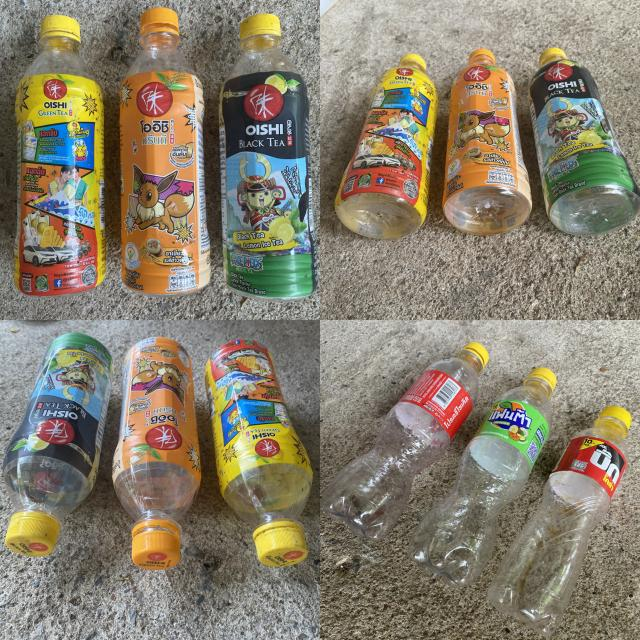plastik: (321, 342, 489, 541), (489, 406, 631, 636), (409, 368, 556, 588), (220, 14, 318, 300), (120, 8, 210, 296), (14, 15, 106, 296), (2, 332, 114, 556), (205, 340, 312, 567), (529, 48, 640, 235), (112, 336, 201, 569), (335, 54, 438, 239), (442, 49, 531, 235)
